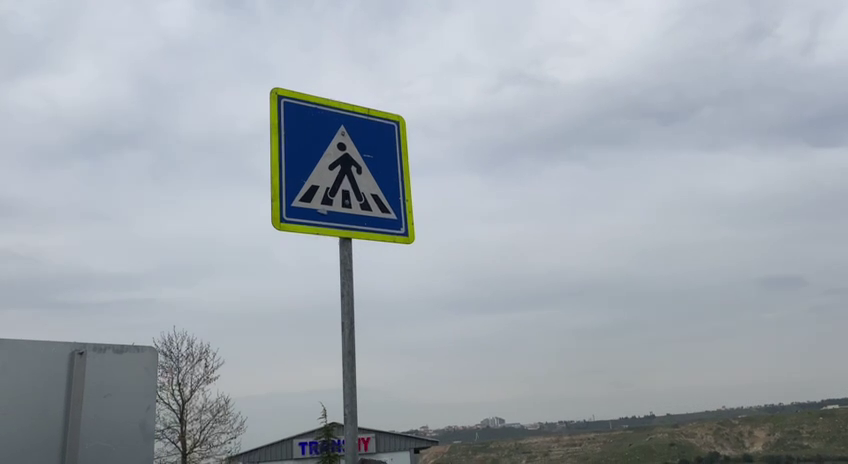pedestrianCrossing: (266, 85, 419, 248)
